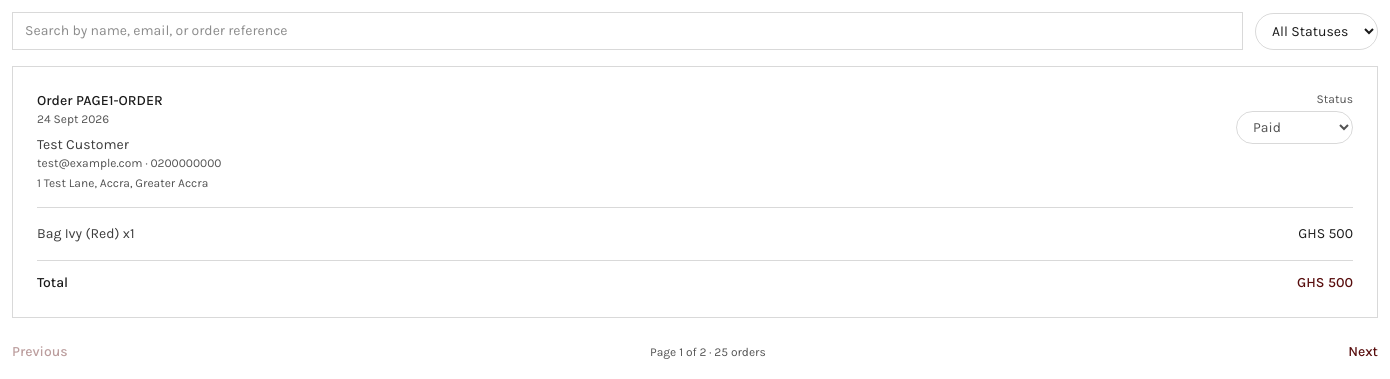
AdminOrdersPage pagination › shows page controls once the total exceeds one page, and fetches the next page on click
Expected: the text "Order PAGE1-ORDER" is shown, x1=37 y1=92 x2=163 y2=109
Expected: the text "Page 1 of 2 · 25 orders" is shown, x1=650 y1=344 x2=766 y2=360
Click the button "Next": (1363, 352) x1=1348 y1=342 x2=1378 y2=362
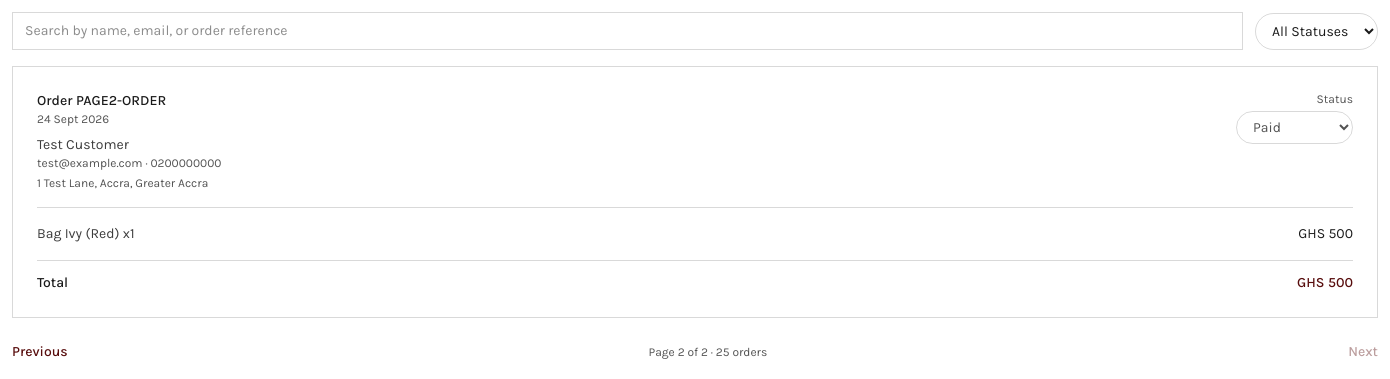
Result: the text "Order PAGE2-ORDER" is shown at x1=37 y1=92 x2=166 y2=109
Result: the text "Page 2 of 2 · 25 orders" is shown at x1=649 y1=344 x2=767 y2=360
Result: the button "Next" is disabled at x1=1348 y1=342 x2=1378 y2=362
